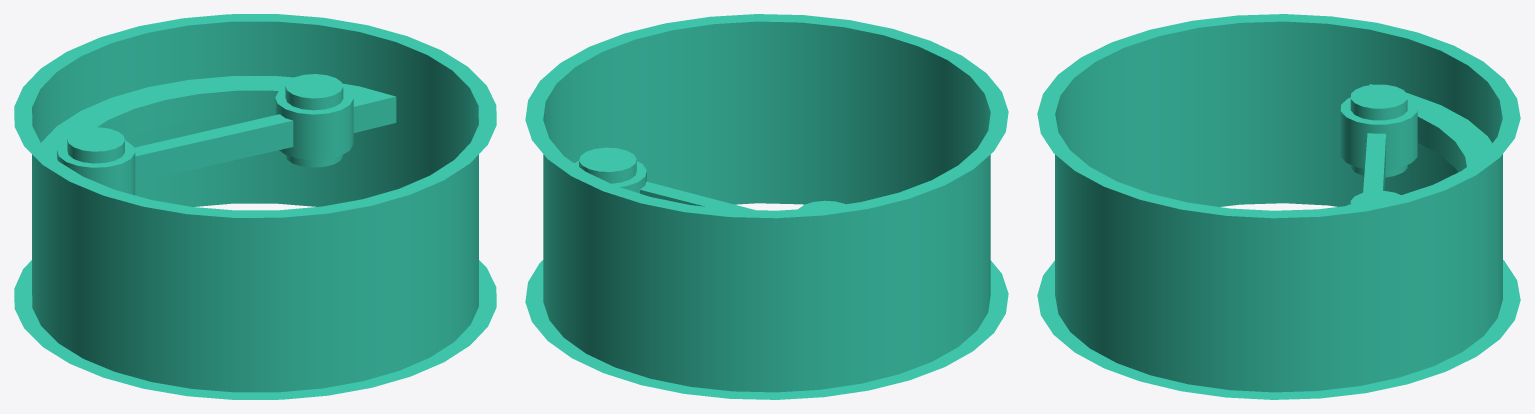
File: Floor_A_LadderEx_1m.FBX
The picture shows the model from 3 angles, left to right: view 1: azimuth 30°, elevation 25°; view 2: azimuth 150°, elevation 25°; view 3: azimuth 270°, elevation 25°; orthographic projection.
Visible parts, largest first — view 1: Floor_A_LadderEx_1m; view 2: Floor_A_LadderEx_1m; view 3: Floor_A_LadderEx_1m.
Part boxes in pixels (box(x1,y1,x2,y2)): Floor_A_LadderEx_1m: box(14, 14, 496, 399); Floor_A_LadderEx_1m: box(525, 14, 1008, 399); Floor_A_LadderEx_1m: box(1037, 14, 1520, 399).
Bounding box in the file's own units: 241 × 100 × 241.
